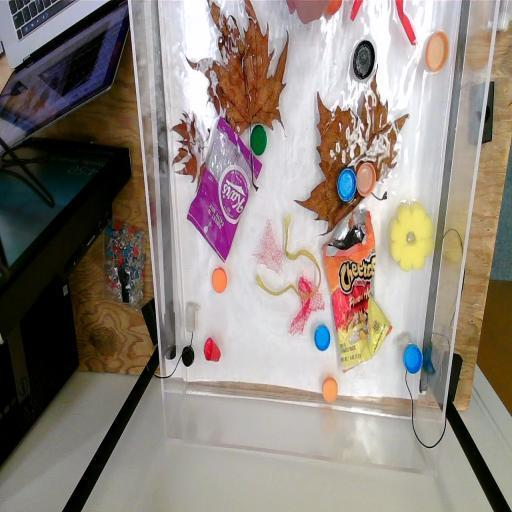Bottle Cap: (423, 28, 450, 76), (352, 38, 376, 84), (335, 162, 357, 206), (354, 157, 376, 201), (401, 340, 424, 380), (319, 371, 340, 409), (248, 121, 268, 159), (311, 319, 332, 354), (210, 263, 228, 298), (181, 344, 195, 368)
Cone Cap: (201, 332, 223, 372)
Leaf: (195, 0, 288, 165), (304, 84, 402, 232), (168, 110, 212, 186)
Netting: (289, 274, 324, 340), (254, 217, 285, 285)
Plastic Bag: (320, 208, 390, 376), (187, 114, 261, 262)
Plastic Strand: (254, 212, 322, 304), (350, 0, 420, 52)
Sponge: (386, 198, 436, 278)
